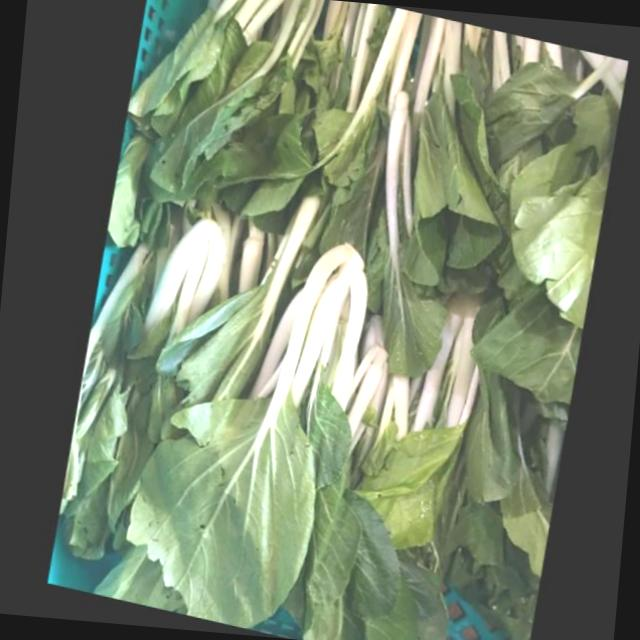vo_rau_cu: (119, 245, 363, 627), (51, 201, 259, 558), (300, 7, 461, 376), (427, 366, 559, 640), (193, 0, 359, 215), (497, 49, 621, 326), (355, 296, 474, 547), (124, 0, 282, 156), (410, 19, 499, 270), (276, 458, 393, 640), (467, 242, 576, 418), (103, 103, 228, 245), (332, 549, 438, 640), (83, 553, 180, 614)
